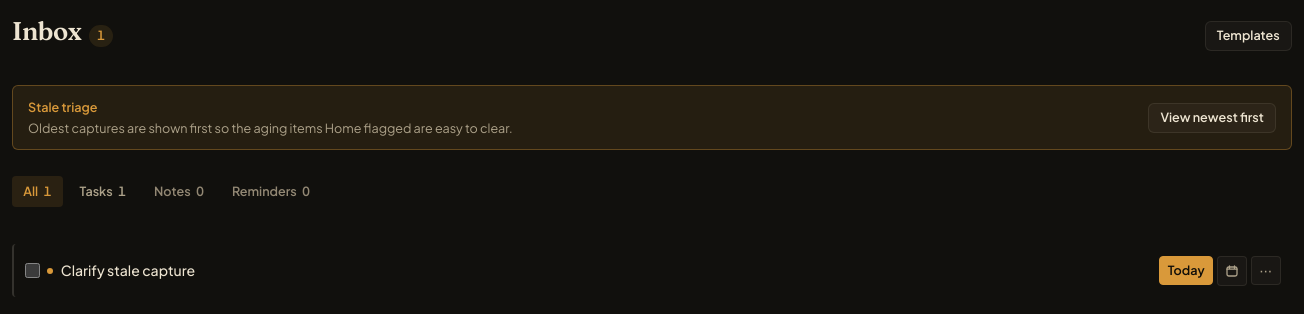
it: InboxPage › honors stale-triage navigation state and can return to newest-first sorting
Expected: the text "Stale triage" is shown, [28,99,98,115]
Expected: the text "Clarify stale capture" is shown, [61,261,195,279]
Click the button "View newest first" at (1212, 118), box [1148,103,1276,133]
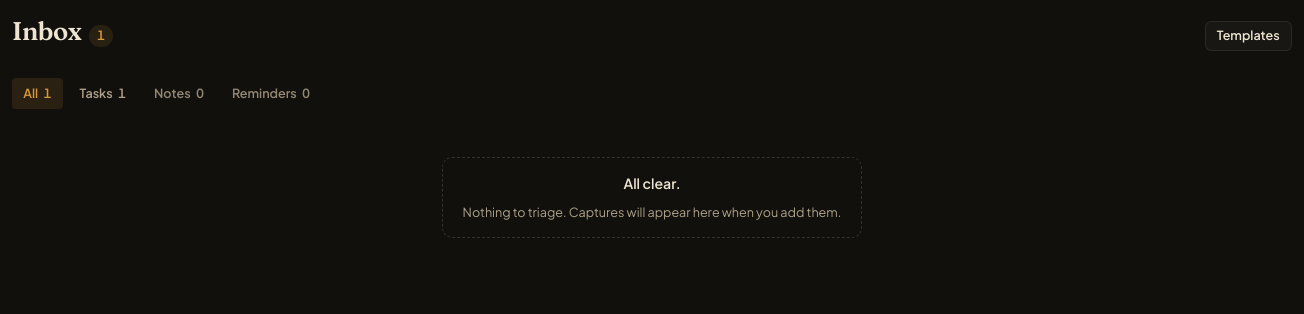
Expected: the text "Stale triage" is gone
